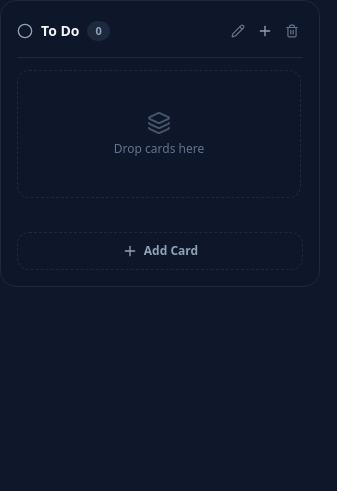
Test case: Mutation error handling › KanbanColumn: re-enables the submit button and shows an error when createCard rejects
The width and height of the screenshot is (337, 491).
Click the button titled "Add Card" at x=265, y=31, box [251, 17, 279, 45]
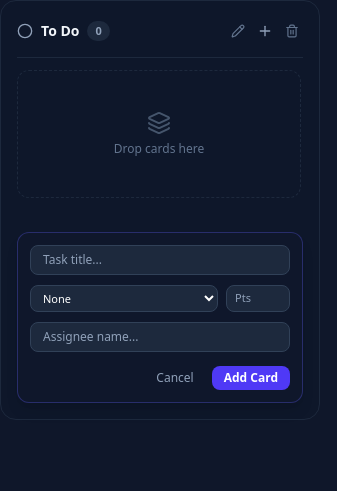
Type "New Task" into the field with placeholder "Task title..." at x=160, y=260, box [30, 245, 290, 275]
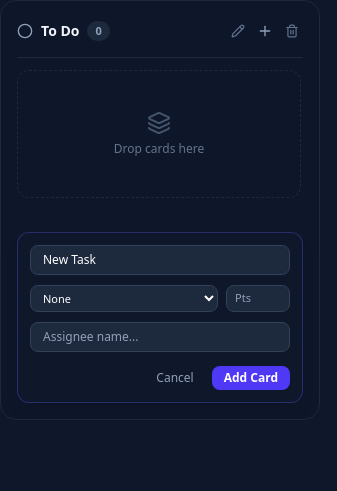
Click the button "Add Card" at x=251, y=378, box [212, 366, 290, 390]
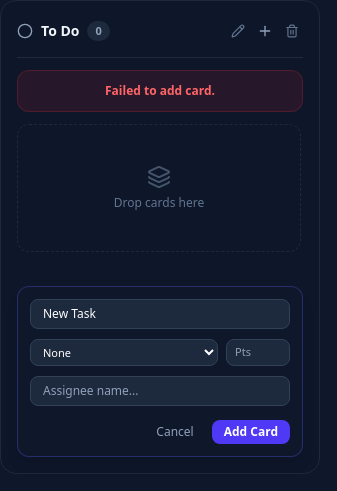
Expected: the button "Add Card" is enabled, [212, 420, 290, 444]
Expected: the text "Failed to add card." is shown, [17, 70, 303, 112]
